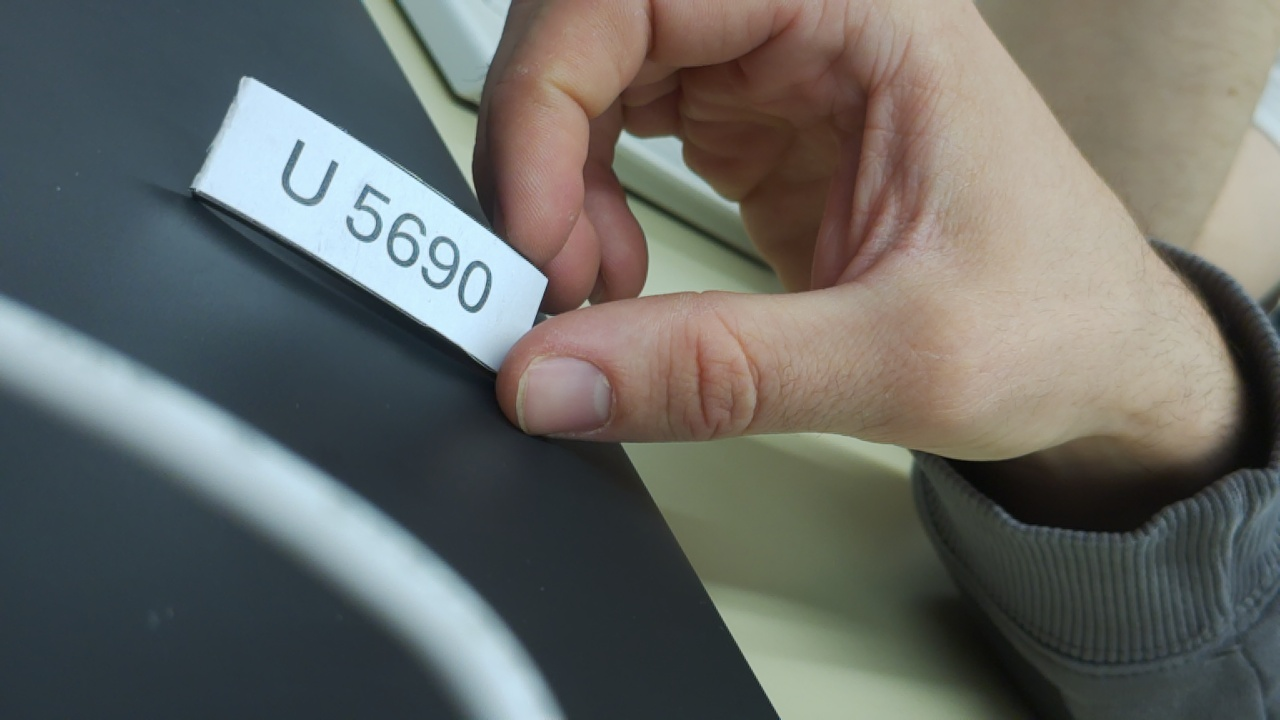license_plate: (166, 67, 553, 387)
